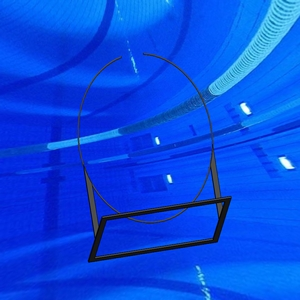circle: (77, 52, 233, 262)
